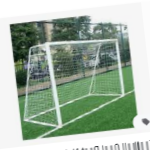goals: (24, 37, 126, 128)
